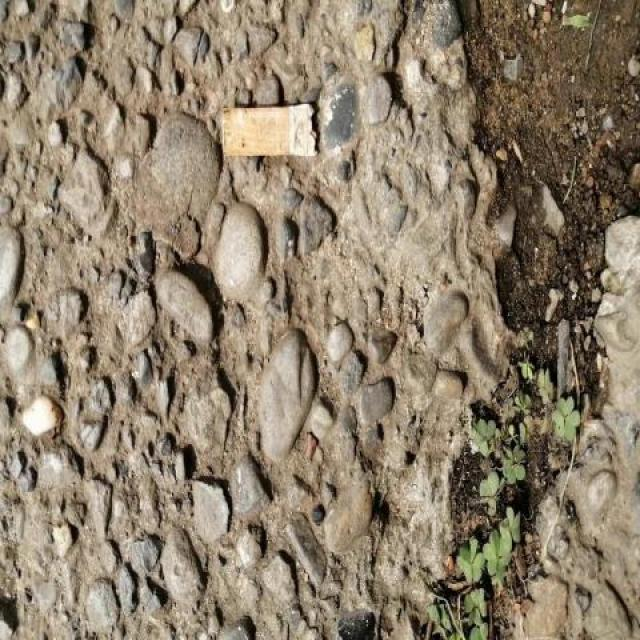non-organic waste: (217, 95, 323, 162)
